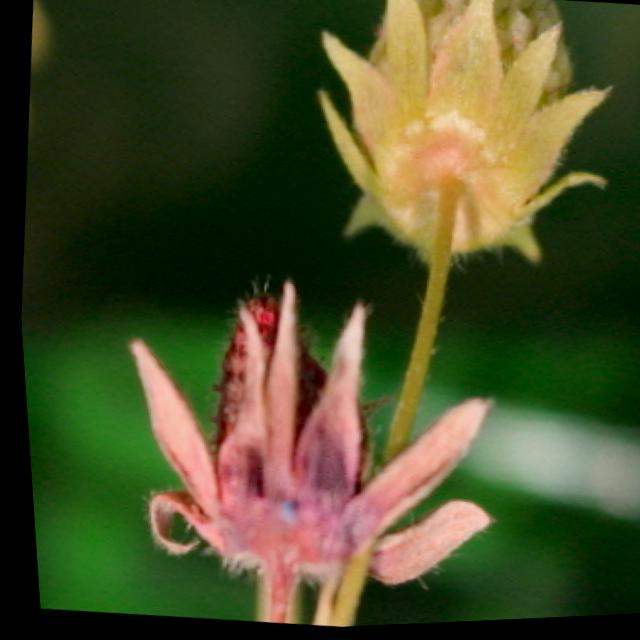Gray Mold: (122, 282, 487, 595)
